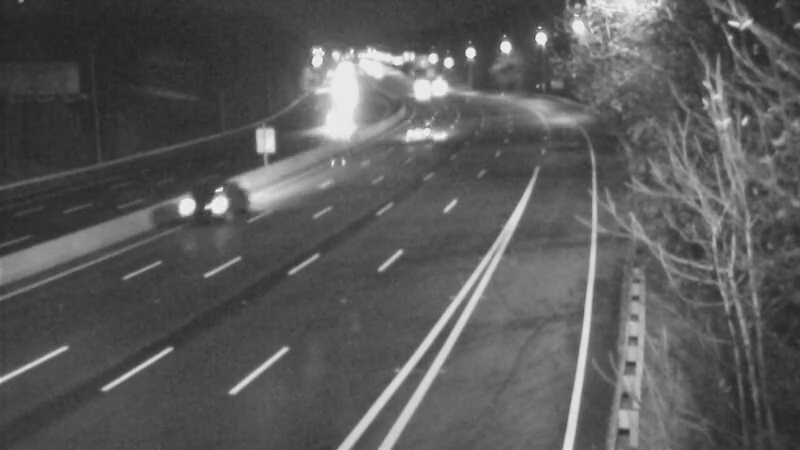vehicle: (159, 159, 239, 239), (390, 113, 440, 163), (310, 96, 360, 146)
